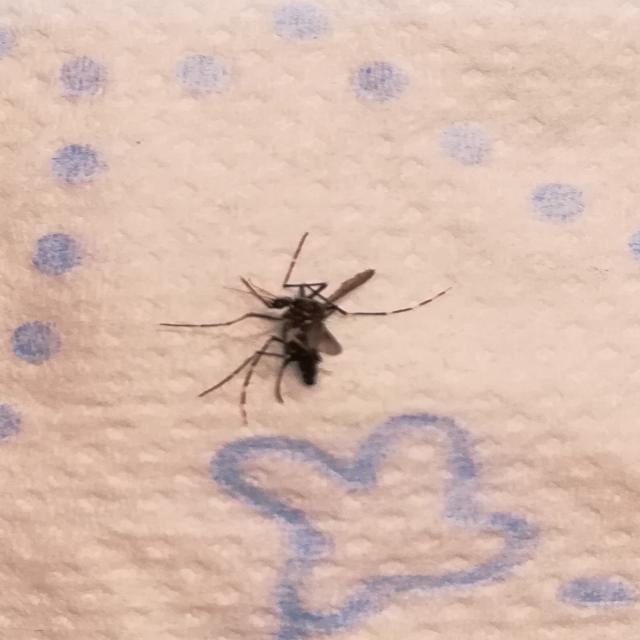albopictus: (155, 220, 448, 429)
